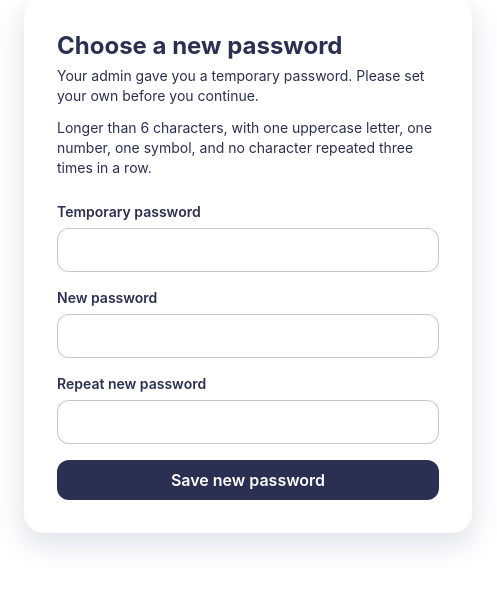
it: ChangePasswordPage › shows the server rule message when the new password is too weak
Type "Temp#1abc" into the password field labelled "Temporary password" at (248, 250), box [57, 228, 439, 272]
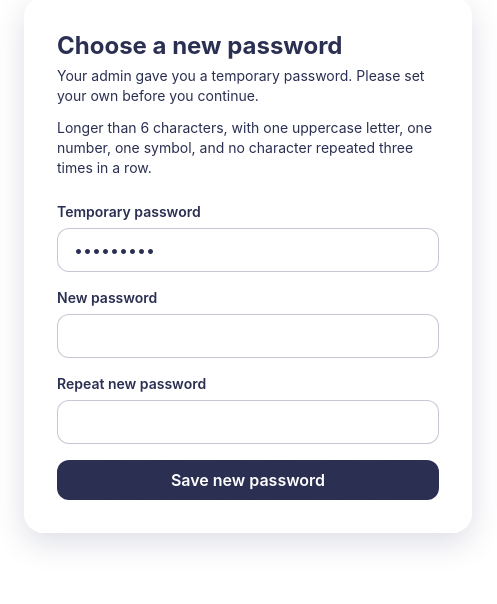
Type "weakpass" into the password field labelled "New password" at (248, 336), box [57, 314, 439, 358]
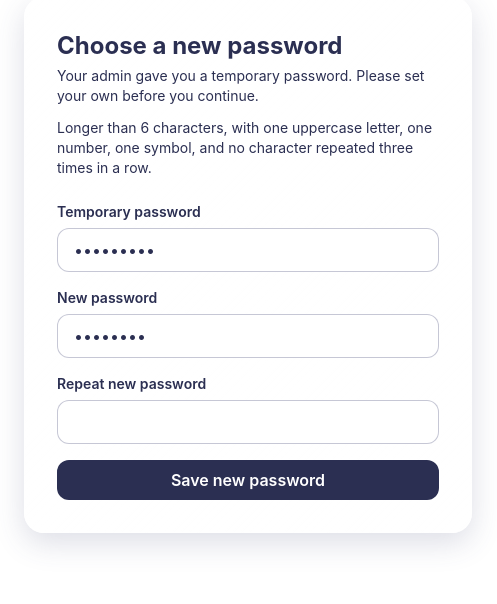
Type "weakpass" into the password field labelled "Repeat new password" at (248, 422), box [57, 400, 439, 444]
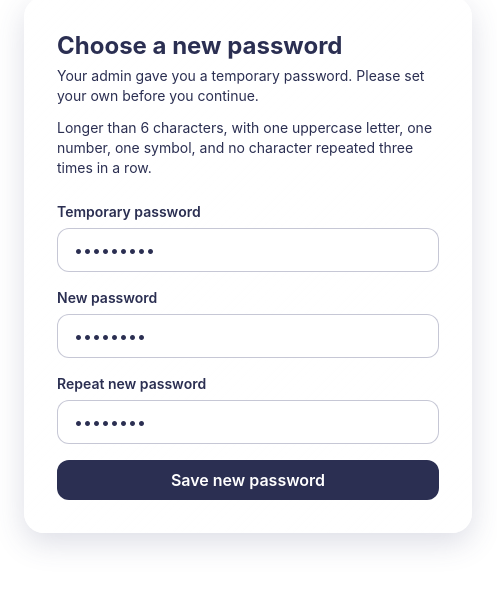
Click the button "Save new password" at (248, 480), box [57, 460, 439, 500]
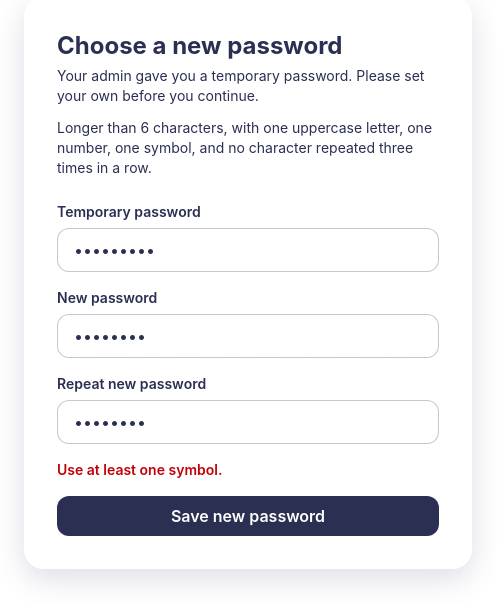
Result: the message reads "Use at least one symbol." at [57, 461, 222, 478]
